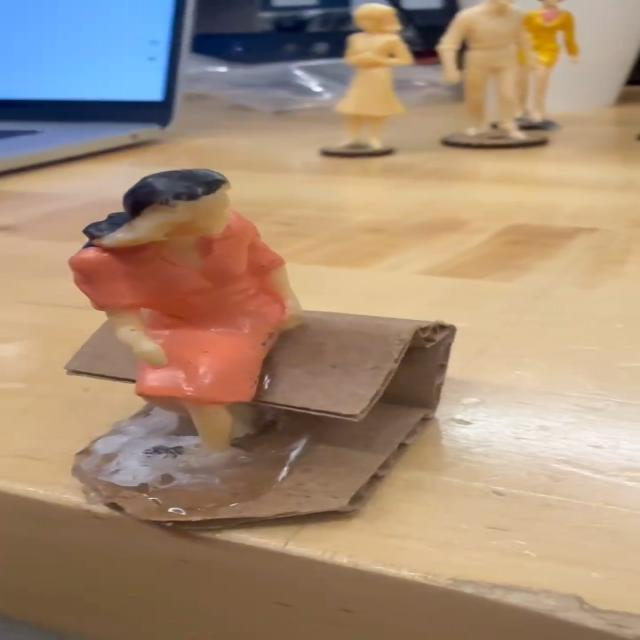Authorized: (73, 168, 302, 466)
